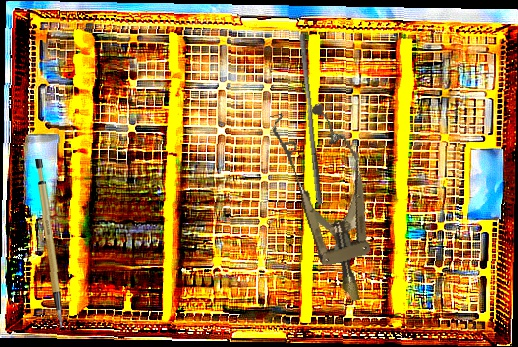Pusher: (292, 33, 330, 206)
Scalpel Handle: (30, 158, 67, 329)
Speculum: (265, 97, 395, 311)
